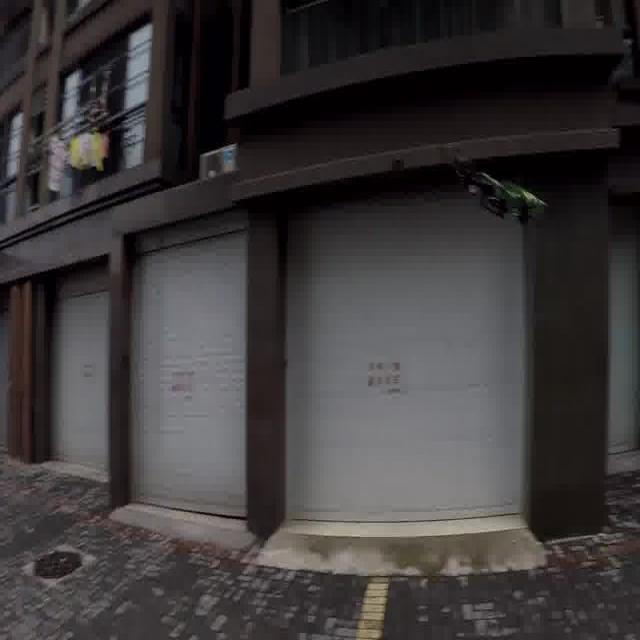drone: (452, 150, 556, 227)
